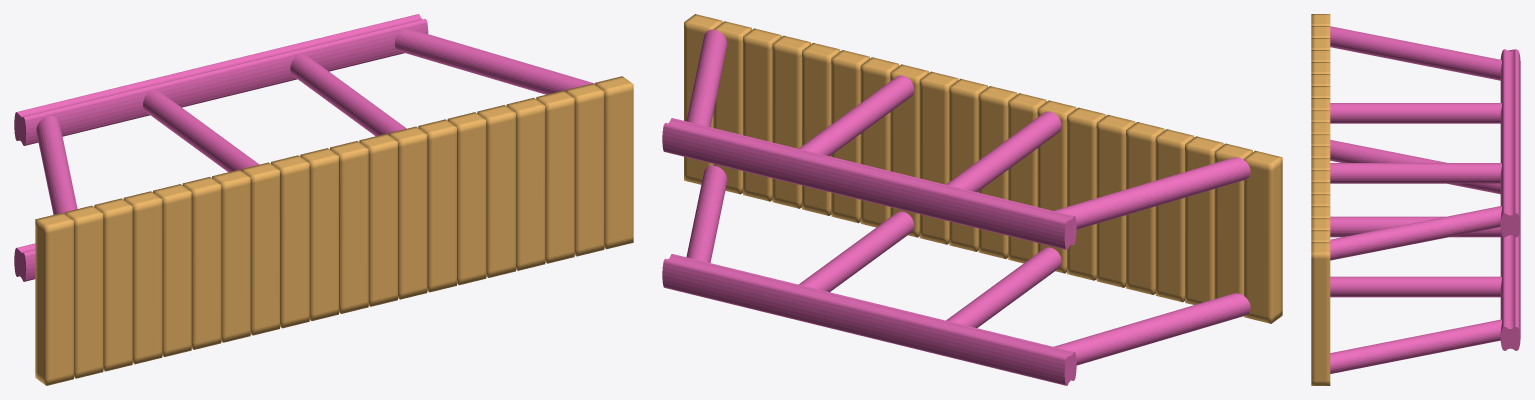
Rendered from bridge (3).fbx.
3 renders of one model, left to right at view 1: azimuth 30°, elevation 25°; view 2: azimuth 150°, elevation 25°; view 3: azimuth 270°, elevation 25°, orthographic. The views are drawn at different scales.
Parts seen in each view (by area): view 1: Cylinder.007; view 2: Cylinder.007; view 3: Cylinder.007.
Part boxes in pixels (x1=…): Cylinder.007: x1=14, y1=14, x2=633, y2=385; Cylinder.007: x1=662, y1=14, x2=1282, y2=385; Cylinder.007: x1=1311, y1=14, x2=1520, y2=385.
Size of the model in its own units: 1.99 by 0.5337 by 0.7349.
